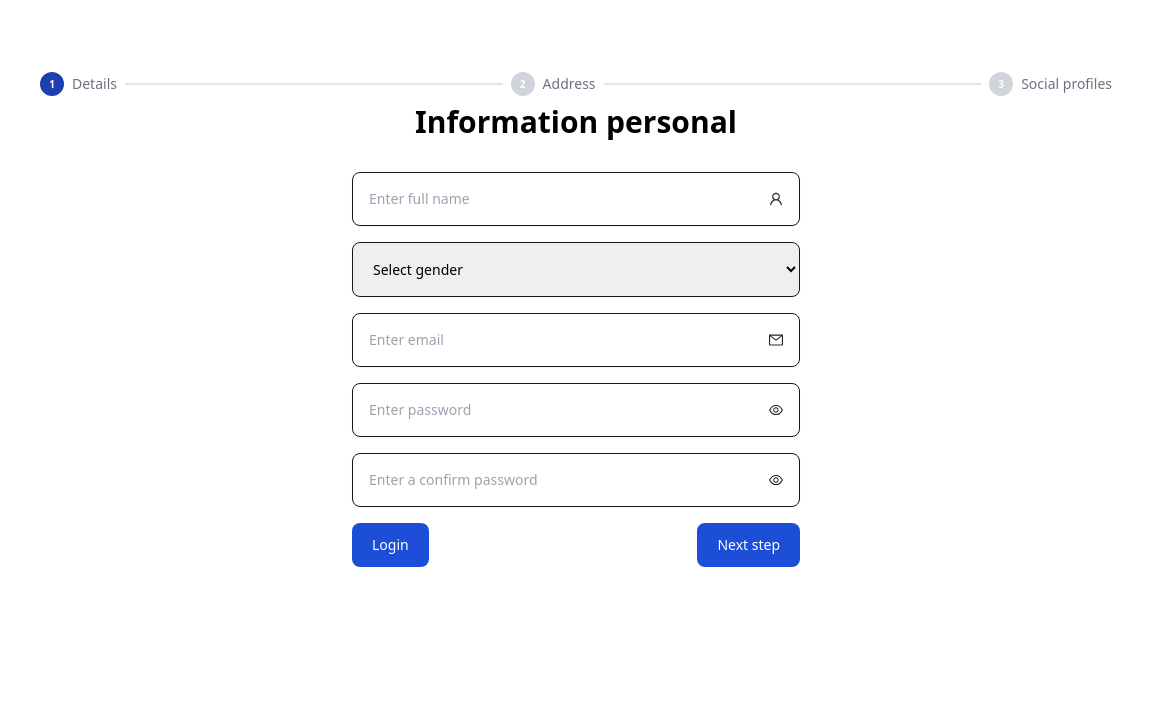
Test: Step 1 › should show error message when name is not valid
Type "2" into the field with placeholder "Enter full name" at (576, 199), box [352, 172, 800, 226]
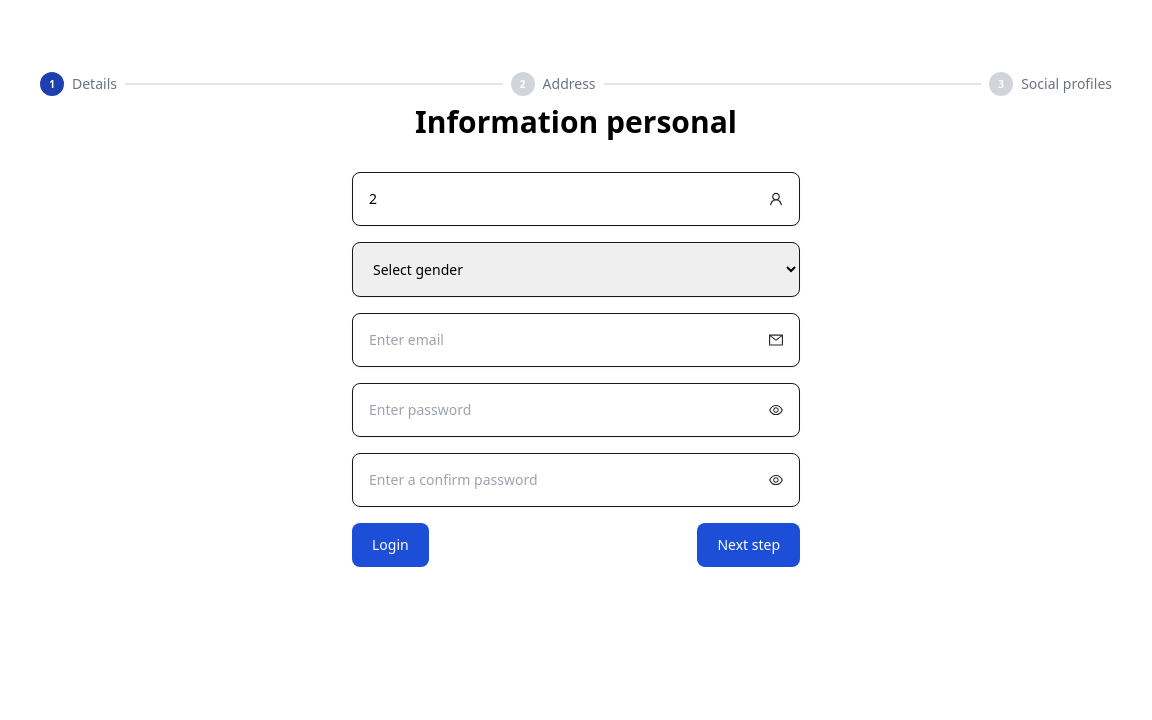
Click the button "Next step" at (749, 545), box [697, 523, 800, 567]
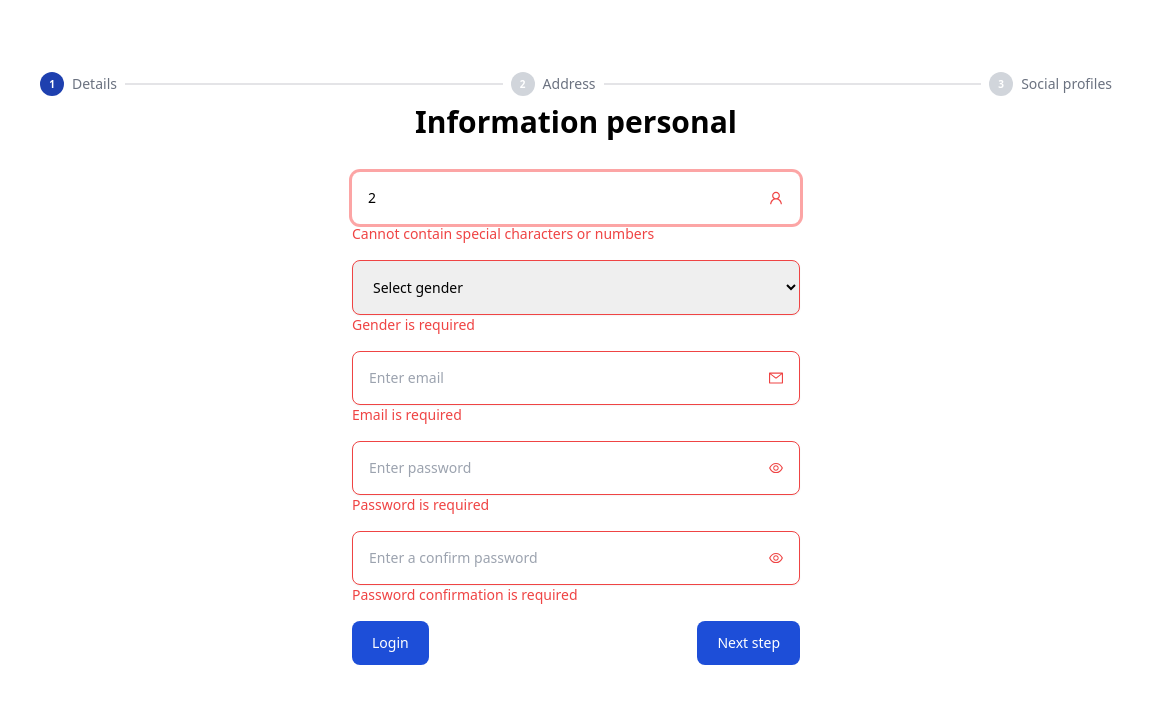
Now the text "Cannot contain special characters or numbers" is shown, box [352, 224, 654, 243]
